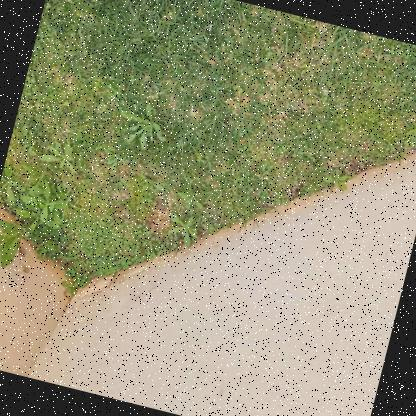Weeds: (112, 99, 172, 155), (17, 179, 65, 225), (0, 216, 34, 278), (38, 140, 82, 178), (162, 212, 202, 252), (46, 184, 81, 220), (15, 125, 41, 160), (98, 147, 129, 175), (0, 164, 22, 203), (176, 185, 207, 212), (321, 169, 353, 193), (141, 174, 169, 197), (400, 121, 415, 161)
